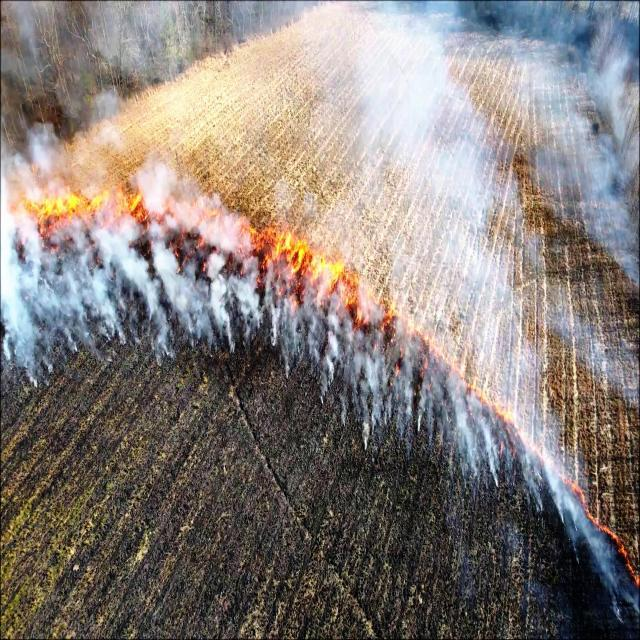Fire: (263, 222, 342, 299), (12, 187, 120, 237), (193, 192, 260, 266)
Smoke: (4, 4, 640, 210), (364, 214, 640, 317), (110, 231, 205, 370), (555, 492, 640, 640), (466, 329, 640, 394), (356, 320, 428, 444), (440, 392, 507, 509), (1, 228, 46, 400), (50, 243, 114, 355), (313, 302, 352, 427), (512, 397, 555, 507), (232, 260, 262, 362), (268, 304, 314, 370), (206, 270, 234, 362)
